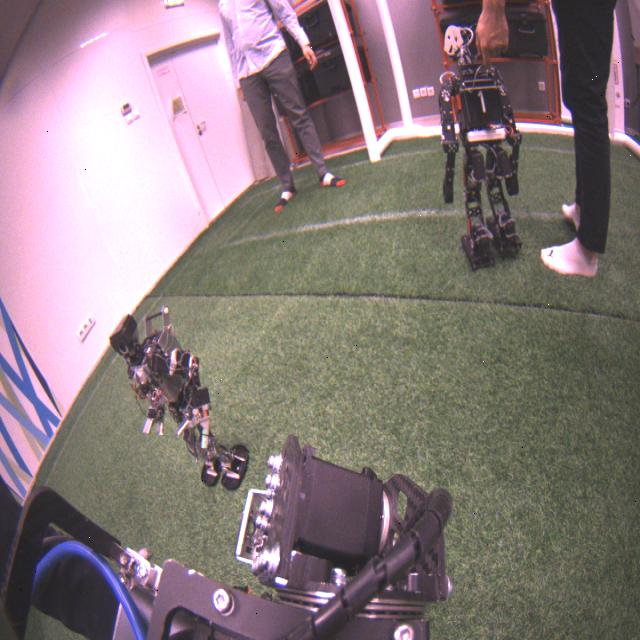goalpost: (327, 3, 381, 162)
